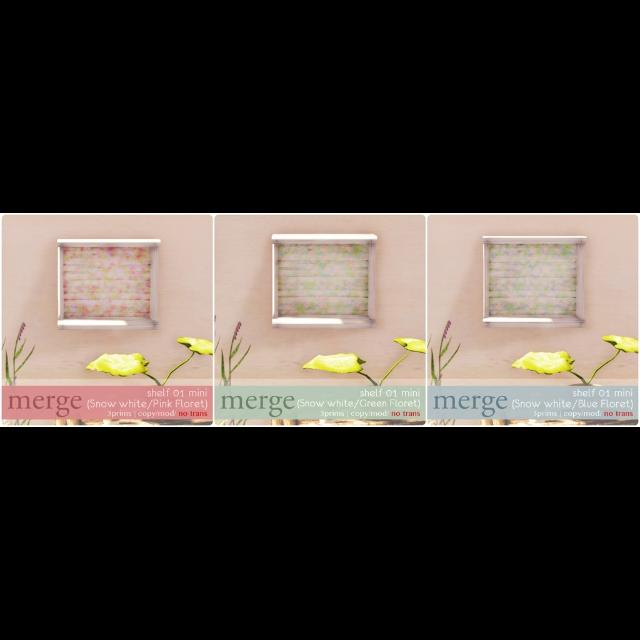Flower: (82, 341, 148, 377)
